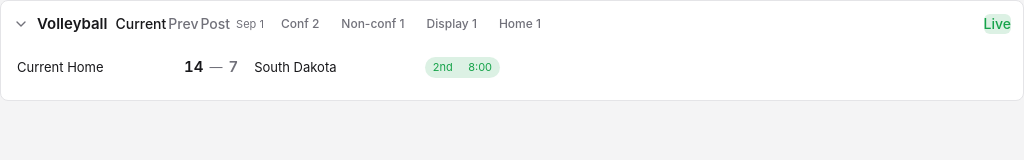
it: SportSection › switches games and count badges with Current | Prev | Post
Click the button "Prev".
click(183, 24)  # box [168,14,198,34]
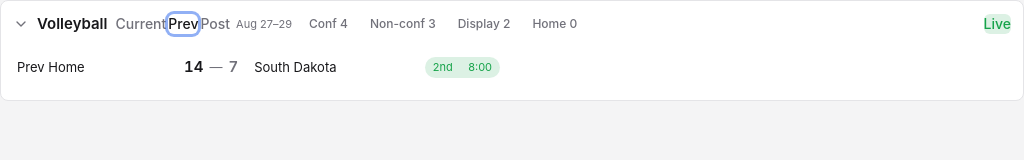
Check: the text "Prev Home" is shown, box [17,59,85,75]
Check: the text "Current Home" is gone
Check: the text "Aug 27–29" is shown, box [236,16,292,32]
Click the button "Post".
click(215, 24)  # box [200,14,230,34]
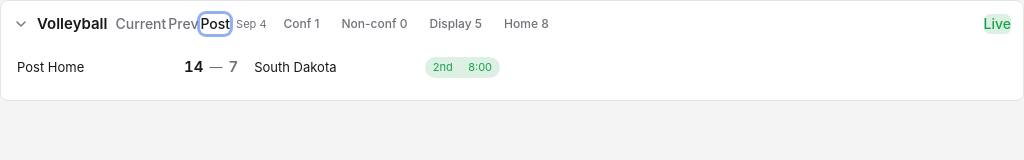
Check: the text "Post Home" is shown, box [17,59,84,75]
Check: the text "Prev Home" is gone
Check: the text "Sep 4" is shown, box [236,16,266,32]
Click the button "Current".
click(141, 24)  # box [116,14,166,34]
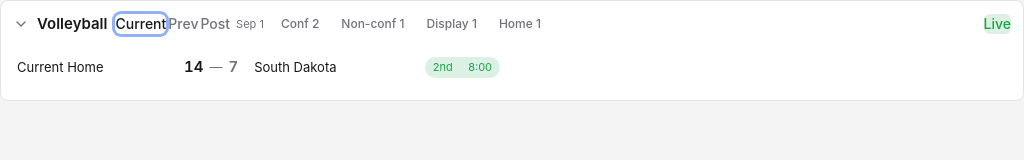
Check: the text "Current Home" is shown, box [17,59,104,75]
Check: the text "Conf 2" is shown, box [272,13,328,35]
